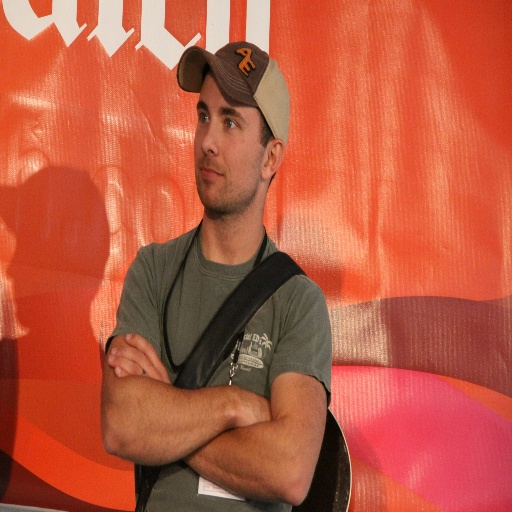hand: (107, 330, 173, 383), (237, 389, 272, 430)
